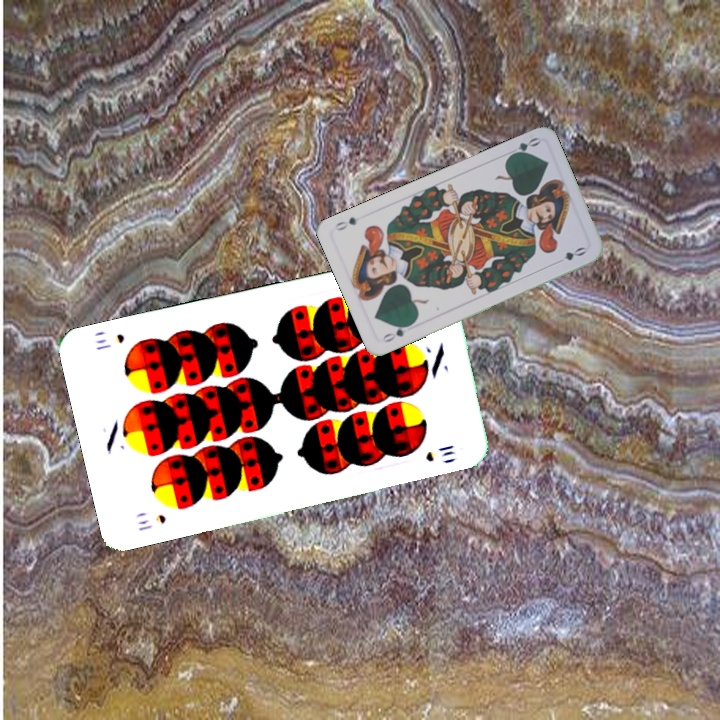GO: (503, 133, 542, 160), (378, 319, 415, 345)
S10: (134, 510, 168, 534)
